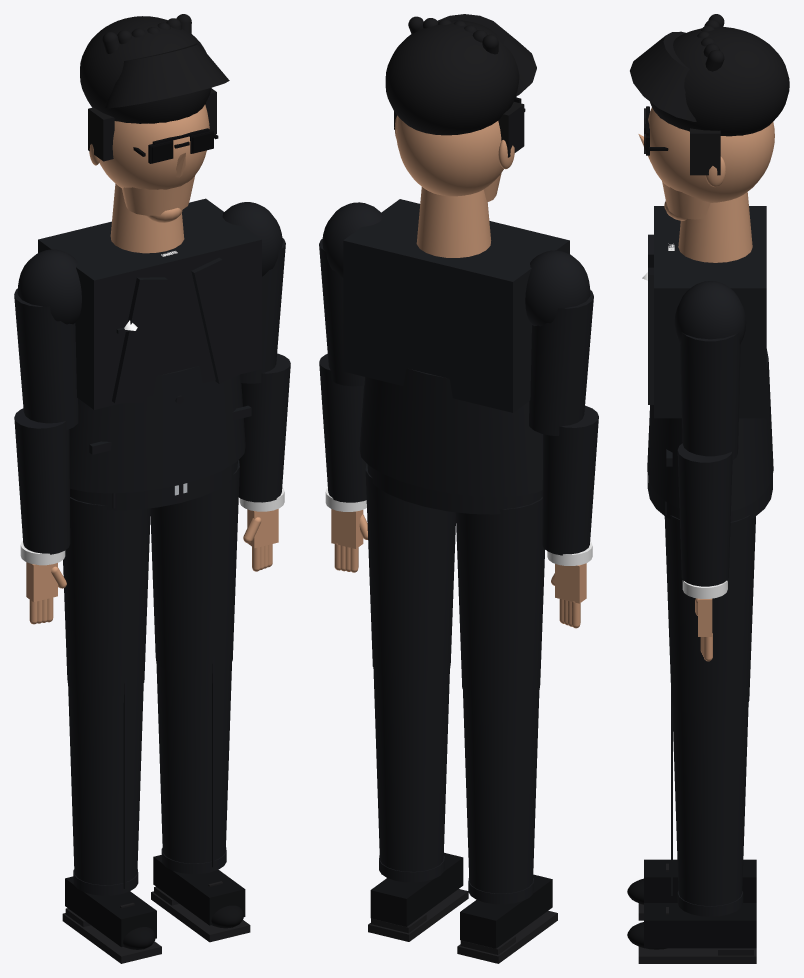
File: agent-suit.gltf
3 renders of one model, left to right at view 1: azimuth 30°, elevation 25°; view 2: azimuth 150°, elevation 25°; view 3: azimuth 270°, elevation 25°, orthographic.
Parts seen in each view (by area): view 1: Part_Pants, Part_JacketTorso, Part_ArmLeft, Part_Hair, Part_Shoes, Part_ArmRight, Part_Head, Part_HandLeft, Part_HandRight, Part_Sunglasses; view 2: Part_Pants, Part_JacketTorso, Part_ArmLeft, Part_Hair, Part_Head, Part_Shoes, Part_ArmRight, Part_HandRight, Part_HandLeft; view 3: Part_Pants, Part_JacketTorso, Part_ArmRight, Part_Hair, Part_Head, Part_Shoes, Part_HandRight.
Boxes of the visible parts, x1=… form: Part_Pants: x1=63, y1=460, x2=239, y2=895; Part_JacketTorso: x1=38, y1=198, x2=261, y2=493; Part_ArmLeft: x1=14, y1=249, x2=81, y2=565; Part_Hair: x1=80, y1=14, x2=229, y2=161; Part_Shoes: x1=62, y1=855, x2=250, y2=963; Part_ArmRight: x1=222, y1=202, x2=290, y2=511; Part_Head: x1=89, y1=104, x2=209, y2=253; Part_HandLeft: x1=26, y1=562, x2=66, y2=624; Part_HandRight: x1=243, y1=509, x2=278, y2=571; Part_Sunglasses: x1=133, y1=128, x2=218, y2=163; Part_Pants: x1=365, y1=464, x2=545, y2=904; Part_JacketTorso: x1=343, y1=199, x2=569, y2=497; Part_ArmLeft: x1=525, y1=250, x2=598, y2=565; Part_Hair: x1=385, y1=14, x2=536, y2=157; Part_Head: x1=394, y1=115, x2=514, y2=257; Part_Shoes: x1=368, y1=852, x2=557, y2=963; Part_ArmRight: x1=319, y1=202, x2=382, y2=511; Part_HandRight: x1=331, y1=509, x2=367, y2=572; Part_HandLeft: x1=551, y1=563, x2=586, y2=628; Part_Pants: x1=647, y1=474, x2=772, y2=916; Part_JacketTorso: x1=642, y1=206, x2=773, y2=511; Part_ArmRight: x1=674, y1=281, x2=746, y2=598; Part_Hair: x1=630, y1=14, x2=789, y2=175; Part_Head: x1=638, y1=107, x2=774, y2=262; Part_Shoes: x1=627, y1=859, x2=756, y2=963; Part_HandRight: x1=695, y1=598, x2=712, y2=661.
Bounding box in the file's own units: 0.6075 × 1.94 × 0.3175.
